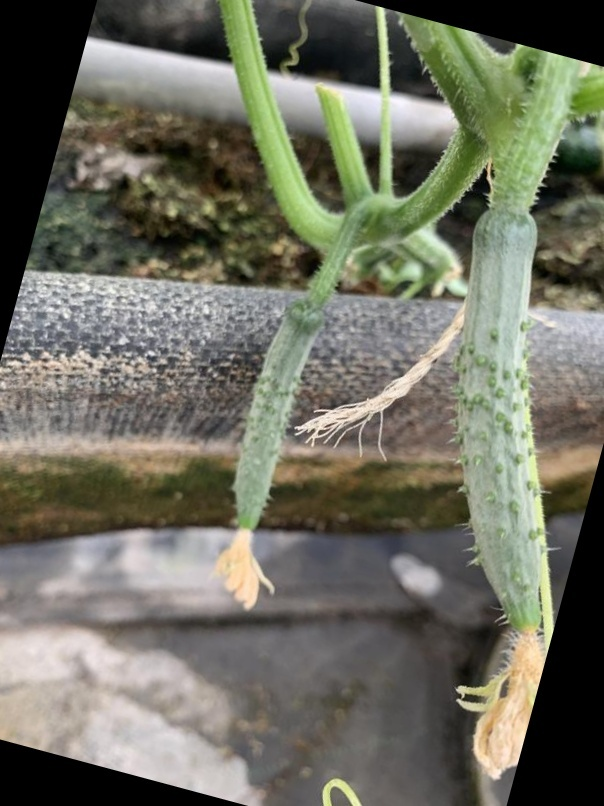bear: (208, 301, 325, 603)
growth: (448, 208, 545, 670)
